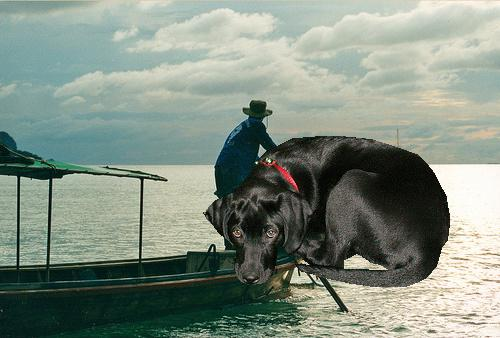tampered: (204, 137, 450, 287)
